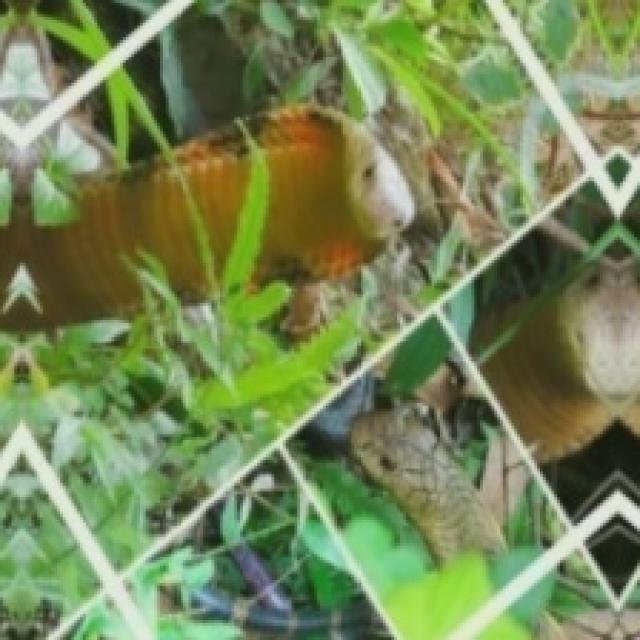king cobra: (0, 164, 201, 321), (486, 268, 640, 460), (259, 105, 414, 280), (350, 410, 501, 558), (176, 139, 250, 250)
